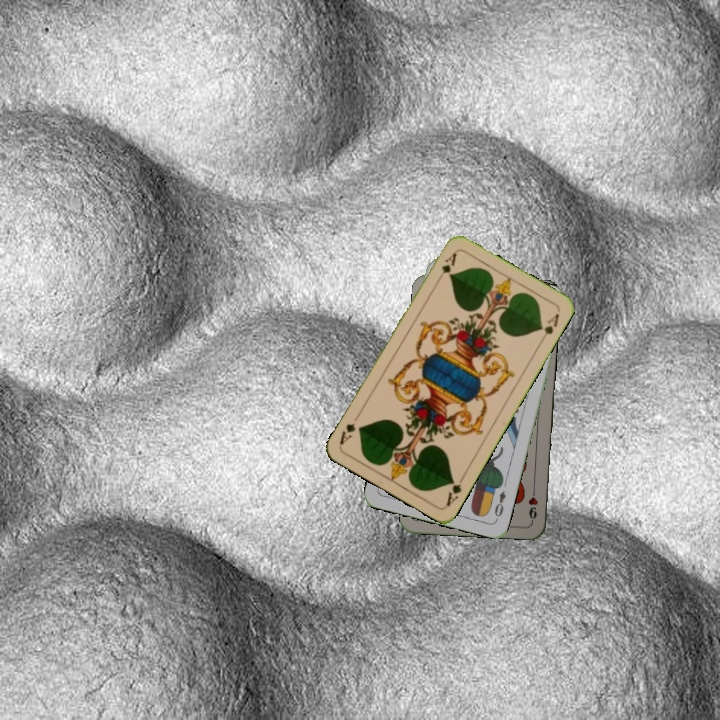EO: (490, 487, 509, 523)
GA: (432, 248, 459, 285), (442, 471, 468, 509)
H9: (524, 483, 540, 524)
